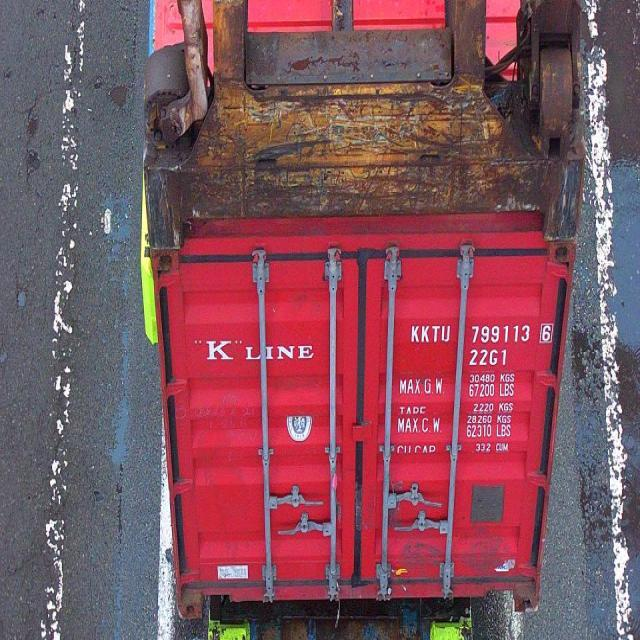ISO: (470, 350, 508, 370)
container_number: (411, 322, 552, 346)
